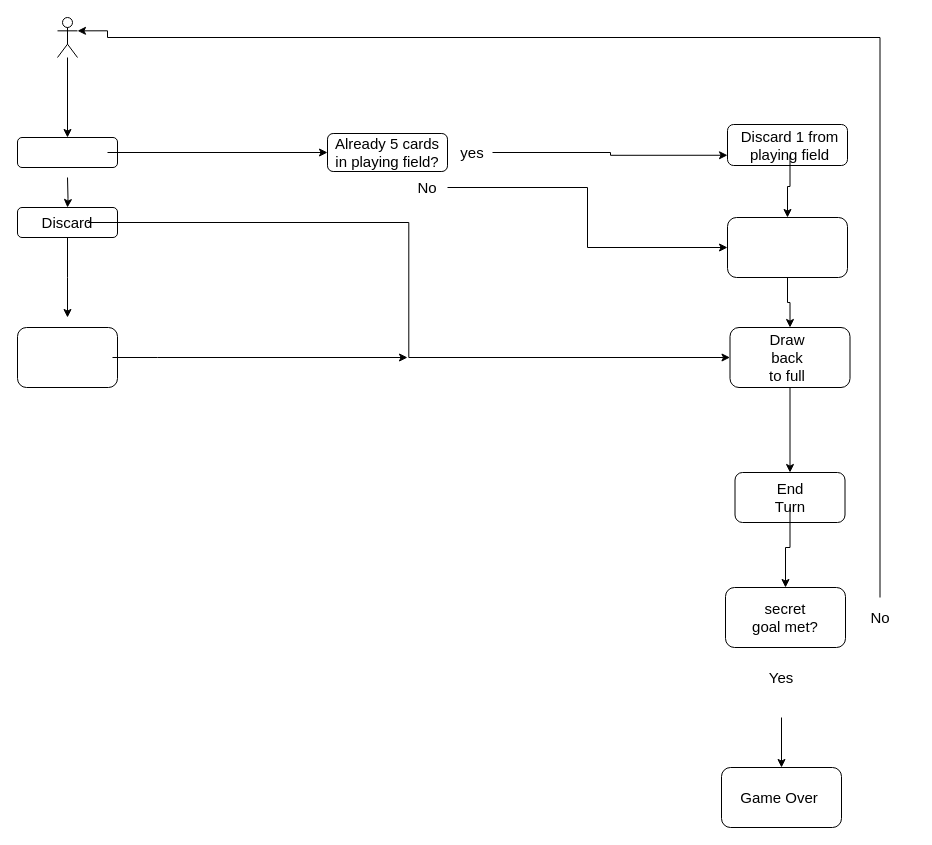
Image size: 932x845. Some labels were removed from this diagram. The shapes that lost their labels are listed below. From the top down, each one's box as (x1, y1, x2, y2) in pixels, then its label:
(56, 16, 78, 58): Player
(16, 136, 118, 168): Plays card
(726, 216, 848, 278): Play 1 card
(16, 326, 118, 388): Play Damn the man! card
